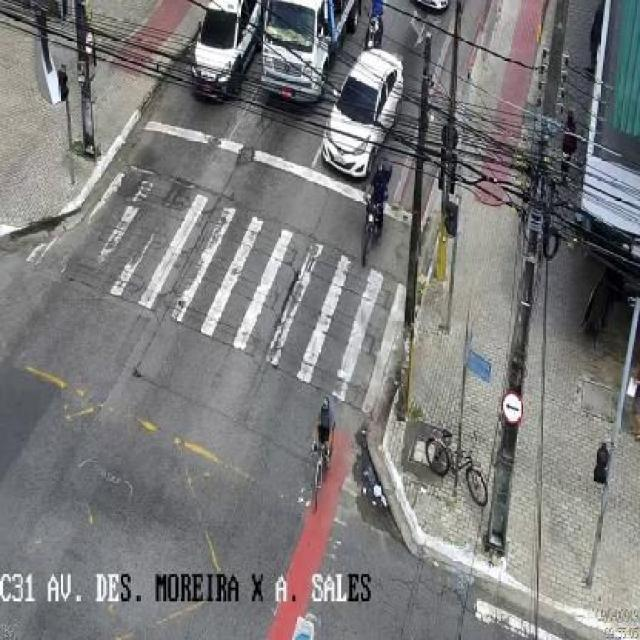Car: (319, 50, 406, 182), (188, 0, 265, 107)
Cycle: (424, 424, 490, 509), (355, 197, 387, 271), (307, 443, 332, 515)
Truck: (259, 0, 366, 117)
